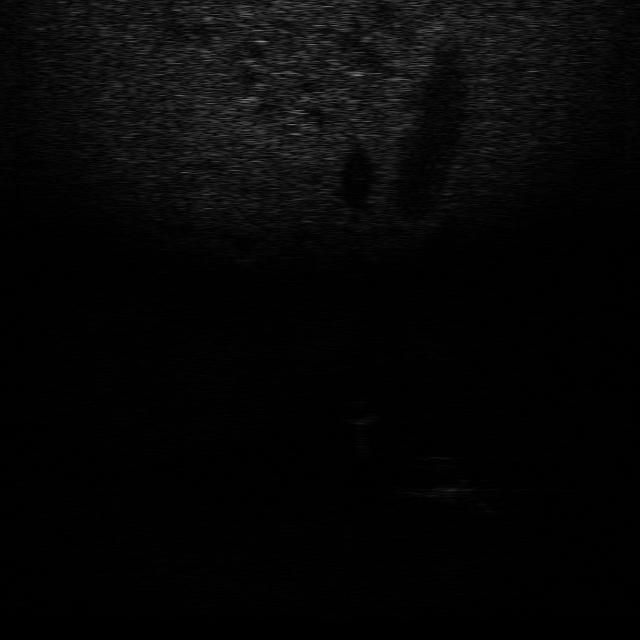ball: (330, 393, 388, 429)
tyre: (391, 453, 471, 501)
